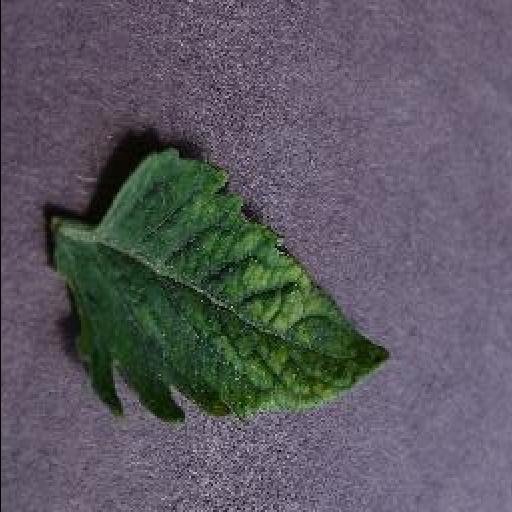disease_tomato: (48, 152, 392, 424)
